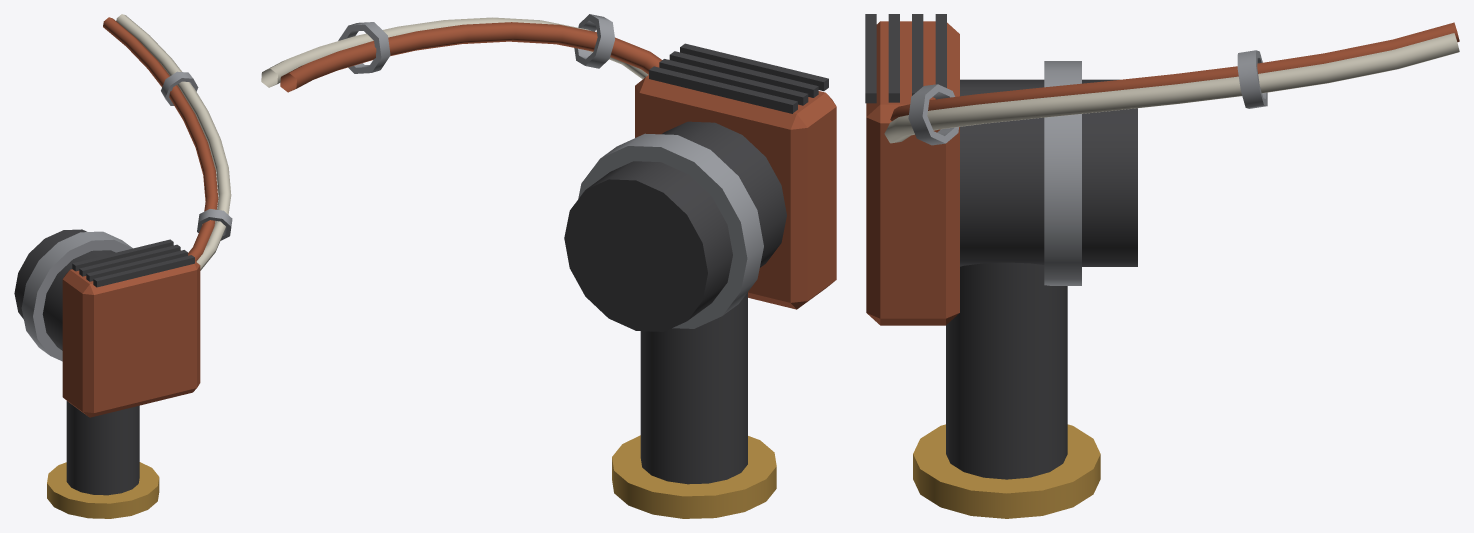
The model's file is pellet_auger.obj.
3 views of the same model, side by side, from view 1: azimuth 30°, elevation 25°; view 2: azimuth 150°, elevation 25°; view 3: azimuth 270°, elevation 25° (orthographic). The views are drawn at different scales.
Visible parts, largest first — view 1: pellet_auger; view 2: pellet_auger; view 3: pellet_auger.
Part boxes in pixels (x1,y1,x2,y2): pellet_auger: (14, 14, 232, 518); pellet_auger: (261, 14, 836, 518); pellet_auger: (865, 14, 1459, 518).
Size of the model in its own units: 0.4596 by 0.6717 by 0.634.
